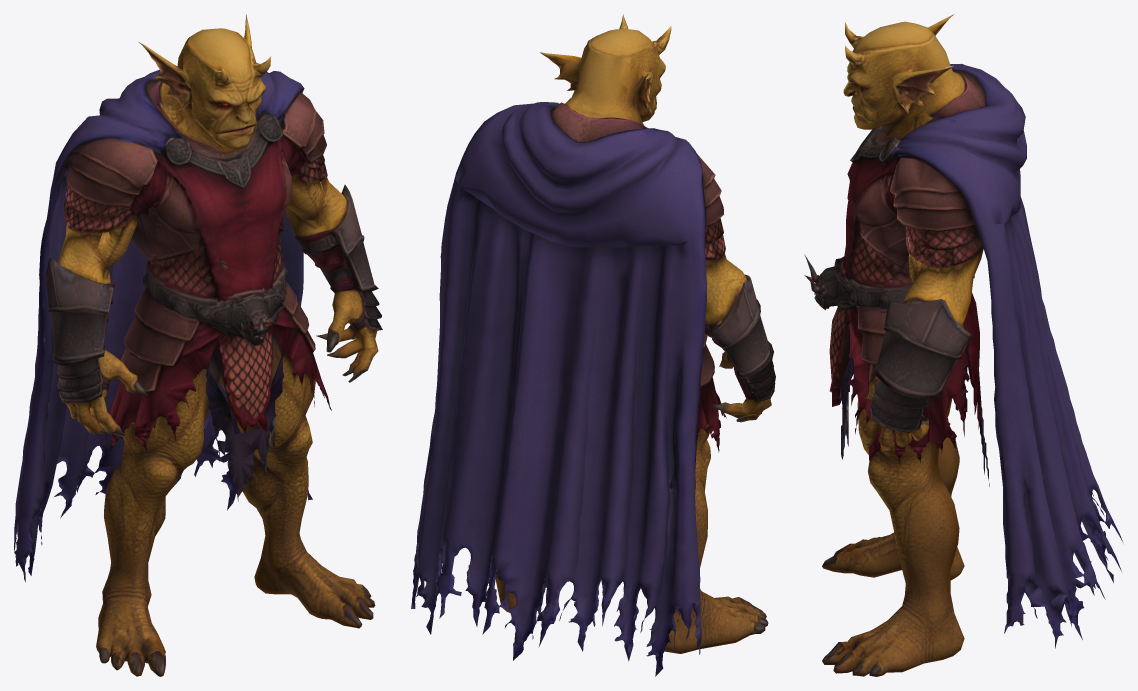
The model's file is Señor_de_la_Guerra.glb.
The picture shows the model from 3 angles, left to right: view 1: azimuth 30°, elevation 25°; view 2: azimuth 150°, elevation 25°; view 3: azimuth 270°, elevation 25°; orthographic projection.
Parts seen in each view (by area): view 1: Model_0; view 2: Model_0; view 3: Model_0.
Boxes of the visible parts, left/top/right/bottom form: Model_0: left=14, top=14, right=382, bottom=676; Model_0: left=411, top=14, right=775, bottom=676; Model_0: left=804, top=14, right=1123, bottom=676.
Bounding box in the file's own units: 0.5577 × 1 × 0.4912.
Materials: 1 (1 with a texture image).
